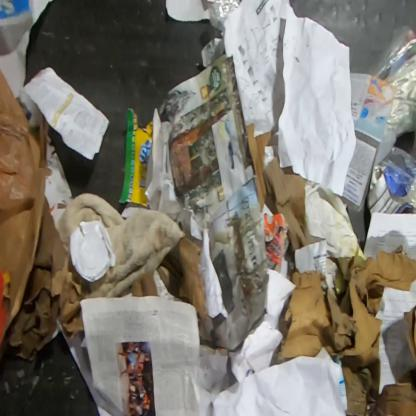cardboard: (276, 249, 415, 415), (0, 193, 88, 362), (0, 112, 52, 347), (245, 123, 325, 253), (156, 235, 208, 325), (118, 107, 153, 219), (199, 342, 230, 416), (0, 69, 28, 117), (164, 0, 216, 23), (0, 269, 10, 347), (131, 270, 158, 297)
rigid_plastic: (68, 219, 116, 283)
soft_plastic: (365, 23, 415, 168), (0, 107, 37, 210), (377, 146, 415, 215), (208, 0, 242, 33)
